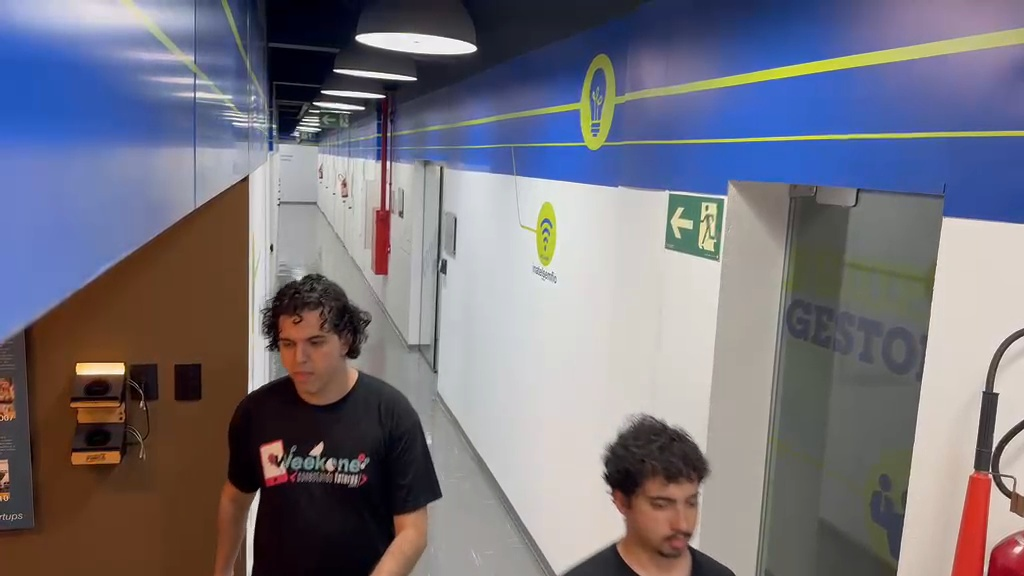person: (213, 273, 442, 573), (563, 413, 736, 575)
